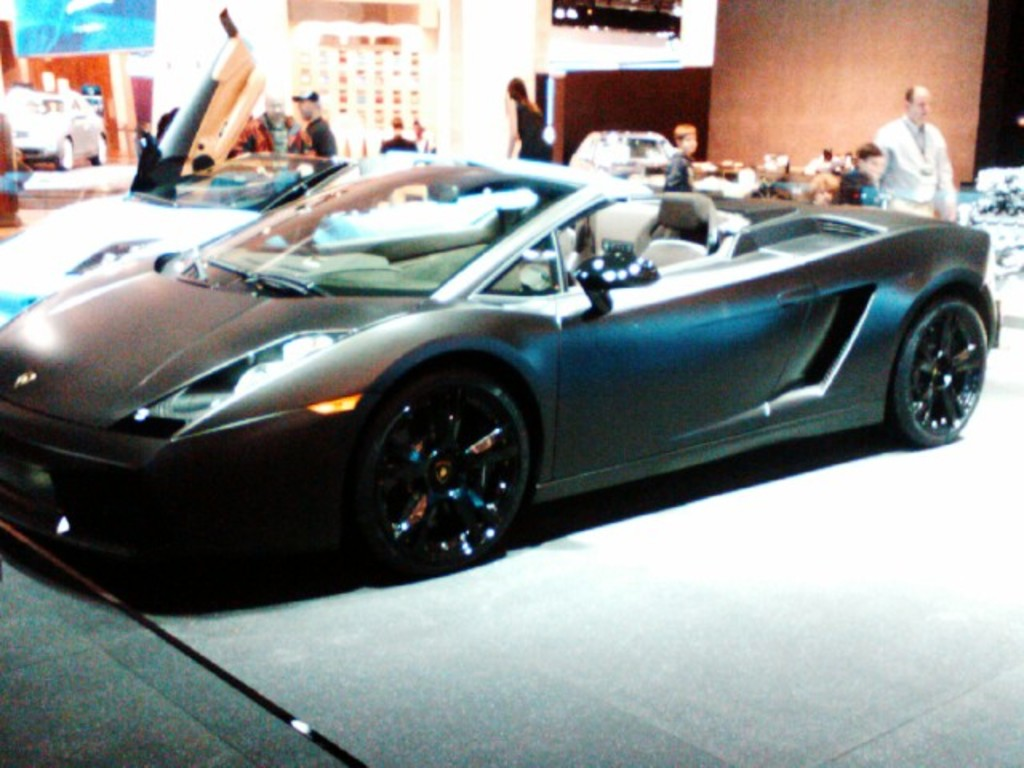mobil: (1, 193, 995, 619)
